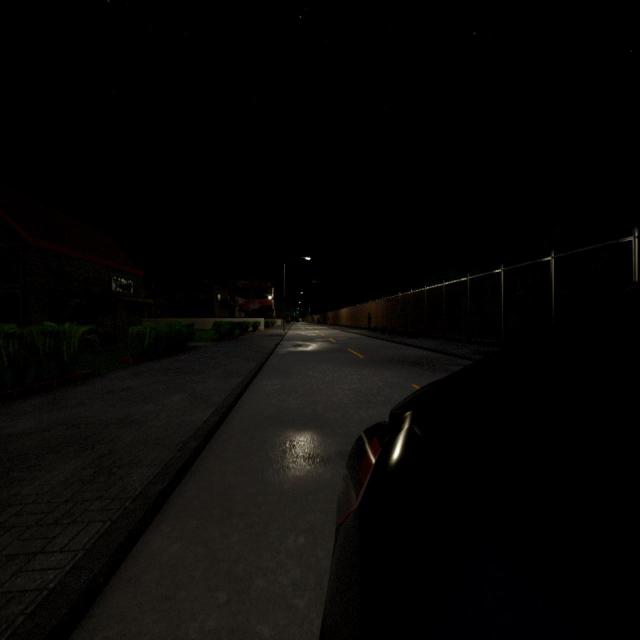Pedestrian: (366, 309, 372, 334)
Vehicle: (320, 289, 640, 637)
